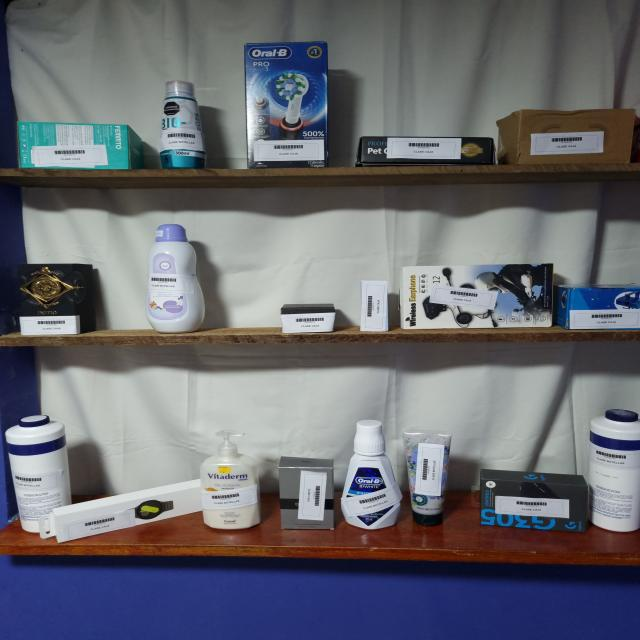botella: (6, 415, 71, 533), (341, 420, 402, 530), (146, 224, 205, 334), (588, 409, 640, 533), (200, 430, 260, 529), (403, 429, 451, 526), (158, 81, 206, 169)
caja: (244, 42, 328, 168), (39, 479, 202, 542), (399, 264, 553, 329), (497, 109, 640, 165), (480, 469, 588, 532), (17, 122, 143, 169), (18, 264, 96, 335), (355, 136, 497, 167), (279, 456, 334, 530), (554, 286, 640, 329), (281, 304, 335, 334), (360, 281, 388, 332)
